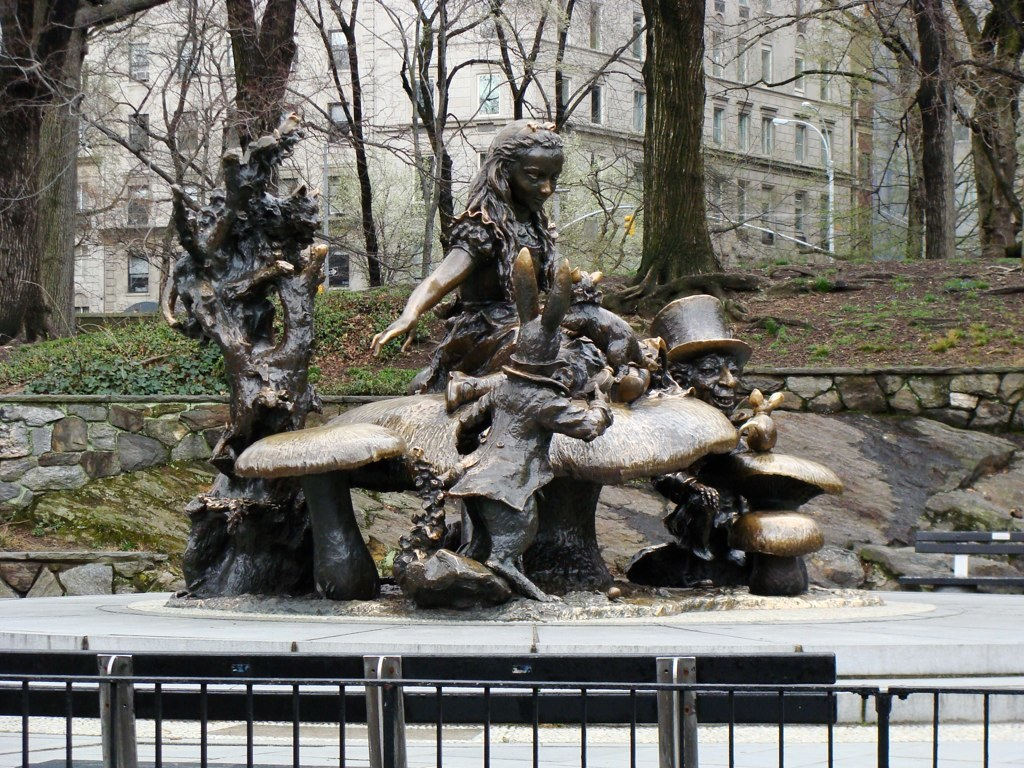Tree: (190, 0, 1022, 320), (0, 0, 190, 341)
